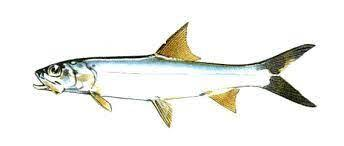Tenpounder: (33, 22, 320, 117)
